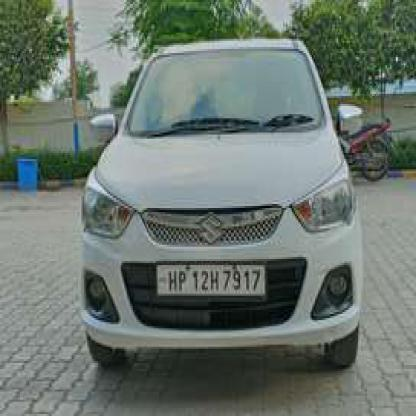license_plate: (155, 263, 263, 292)
